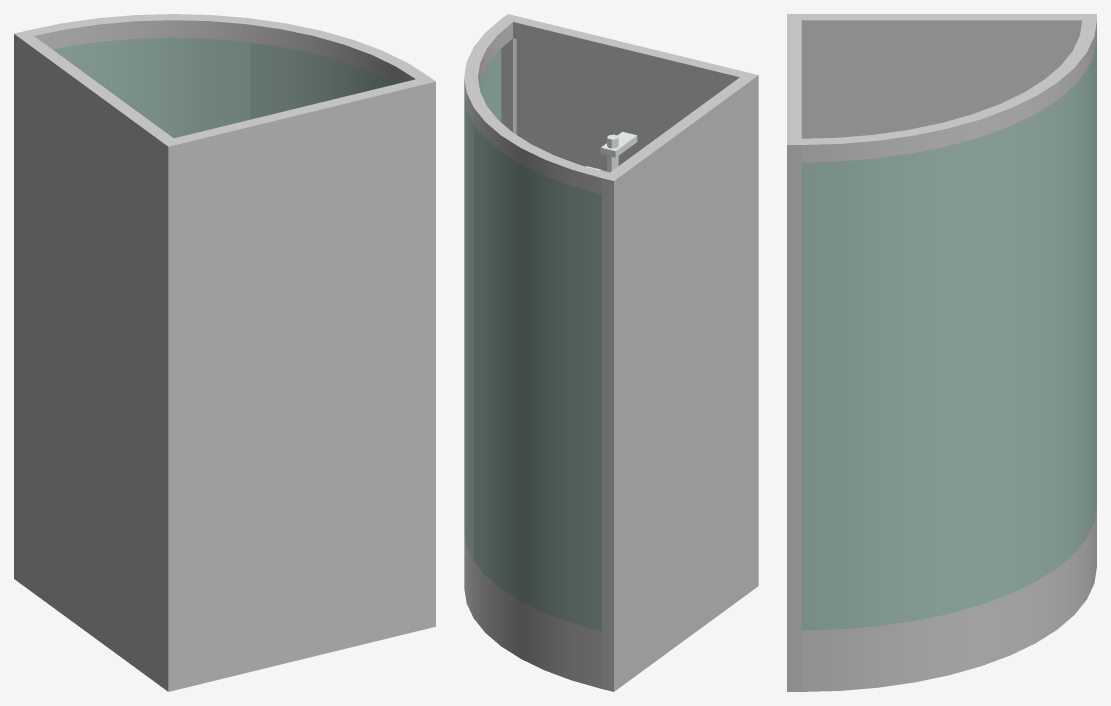
The model's file is showerRound.fbx.
3 renders of one model, left to right at view 1: azimuth 30°, elevation 25°; view 2: azimuth 150°, elevation 25°; view 3: azimuth 270°, elevation 25°, orthographic. The views are drawn at different scales.
Visible parts, largest first — view 1: showerRound, doorRight, doorLeft; view 2: showerRound, doorRight, doorLeft, faucet; view 3: doorLeft, showerRound, doorRight.
Part boxes in pixels (bbox=[...]): showerRound: bbox=[14, 14, 435, 691]; doorRight: bbox=[53, 37, 249, 138]; doorLeft: bbox=[250, 42, 395, 119]; showerRound: bbox=[464, 14, 758, 691]; doorRight: bbox=[473, 124, 601, 631]; doorLeft: bbox=[464, 49, 501, 560]; faucet: bbox=[586, 131, 637, 172]; doorLeft: bbox=[801, 126, 1010, 630]; showerRound: bbox=[787, 14, 1096, 691]; doorRight: bbox=[1010, 39, 1096, 593].
Size of the model in its own units: 5.62 by 10.94 by 5.62.
